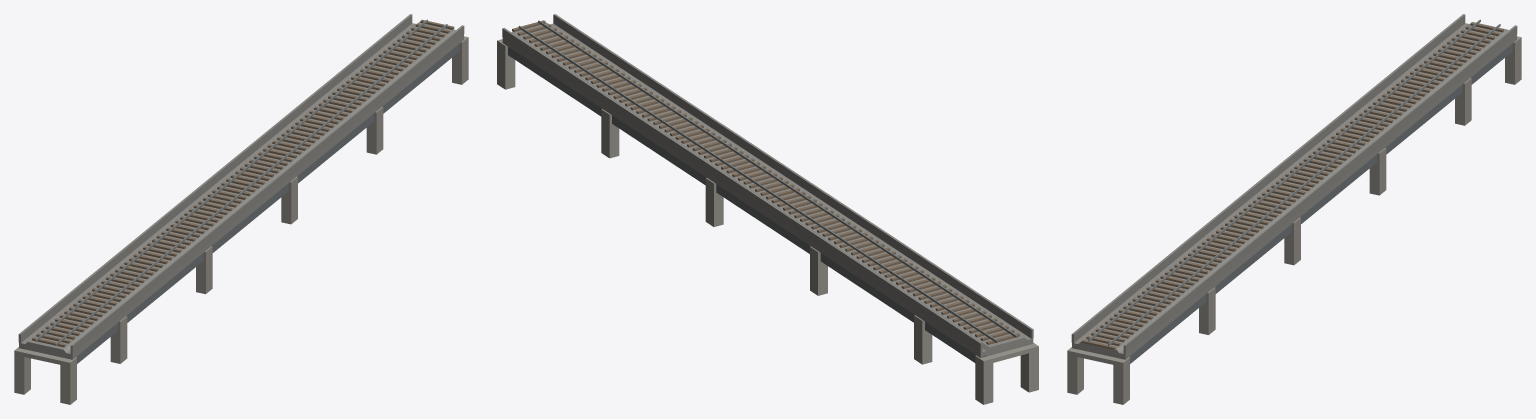
File: rail_01198.glb
3 views of the same model, side by side, from view 1: azimuth 90°, elevation 25°; view 2: azimuth 150°, elevation 25°; view 3: azimuth 270°, elevation 25° (orthographic). The views are drawn at different scales.
Visible parts, largest first — view 1: Sleepers, BridgeParapets, Ballast, BridgePiers, BridgeDeck, BridgeGirders, Rails; view 2: BridgeParapets, Sleepers, Ballast, BridgePiers, BridgeDeck, BridgeGirders, Rails; view 3: Sleepers, BridgeParapets, Ballast, BridgePiers, BridgeDeck, BridgeGirders, Rails.
Boxes of the visible parts, box(x1,y1,x2,y2) form: Sleepers: box(32, 19, 454, 347); BridgeParapets: box(18, 14, 464, 354); Ballast: box(25, 22, 455, 352); BridgePiers: box(14, 36, 468, 404); BridgeDeck: box(19, 23, 463, 359); BridgeGirders: box(20, 43, 459, 363); Rails: box(35, 19, 447, 345); BridgeParapets: box(502, 14, 1033, 352); Sleepers: box(512, 20, 1019, 344); Ballast: box(511, 22, 1026, 350); BridgePiers: box(497, 39, 1038, 404); BridgeDeck: box(502, 23, 1033, 357); BridgeGirders: box(508, 47, 1027, 362); Rails: box(518, 20, 1017, 342); Sleepers: box(1081, 22, 1503, 349); BridgeParapets: box(1071, 14, 1517, 354); Ballast: box(1078, 22, 1508, 352); BridgePiers: box(1067, 36, 1521, 404); BridgeDeck: box(1072, 23, 1516, 359); BridgeGirders: box(1073, 43, 1512, 363); Rails: box(1088, 19, 1500, 345).
Bounding box in the file's own units: 51.61 × 4 × 29.34.
